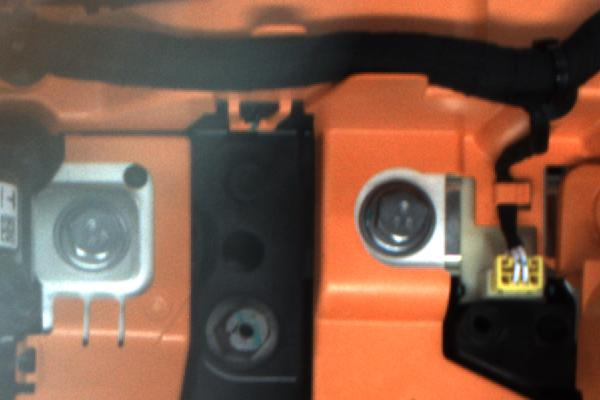nut_b: (352, 174, 444, 264), (45, 192, 139, 276)
